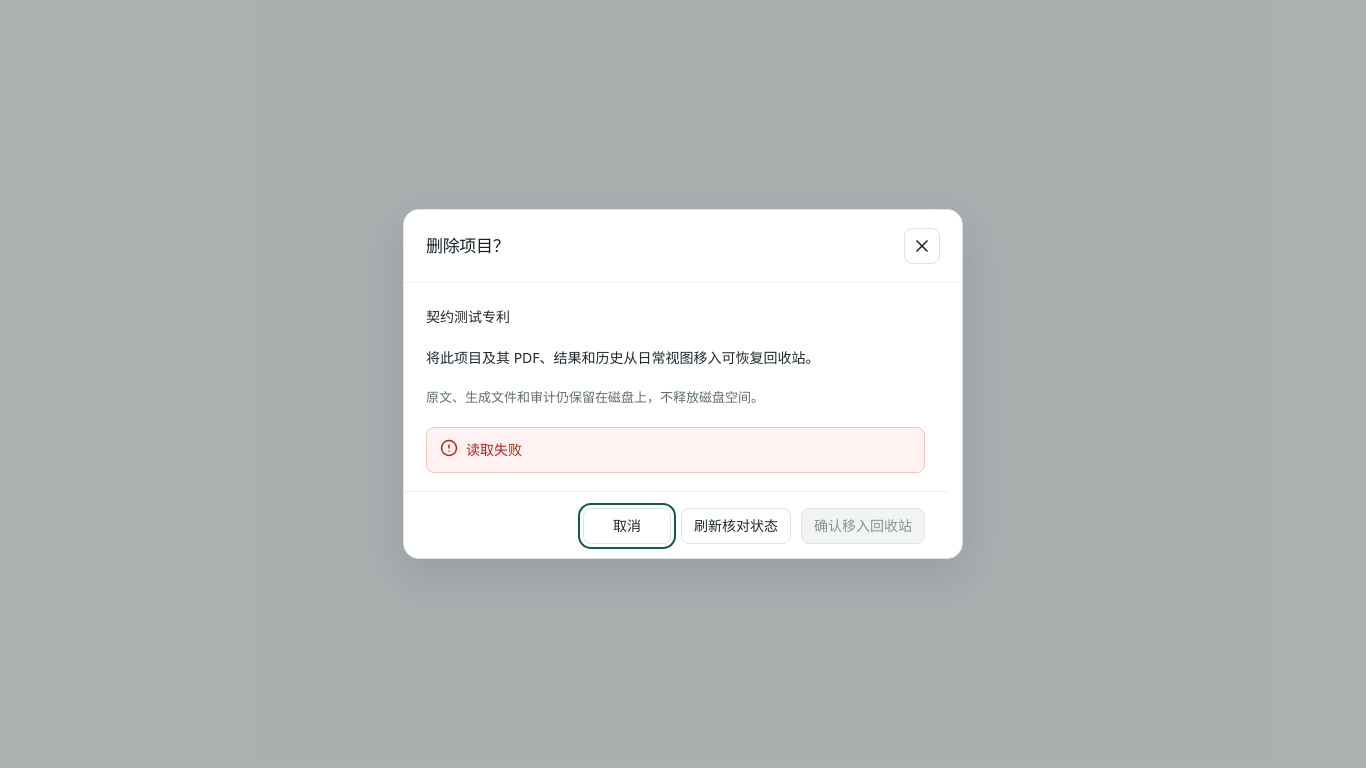
Test: explicit recoverable deletion and authoritative preview › surfaces read failure and permits only a read retry until preview succeeds
Expected: the message reads "读取失败", [466,440,522,459]
Expected: the button "确认移入回收站" is disabled, [801,508,925,544]
Click the button "刷新核对状态". click: (736, 526)
box: [681,508,791,544]
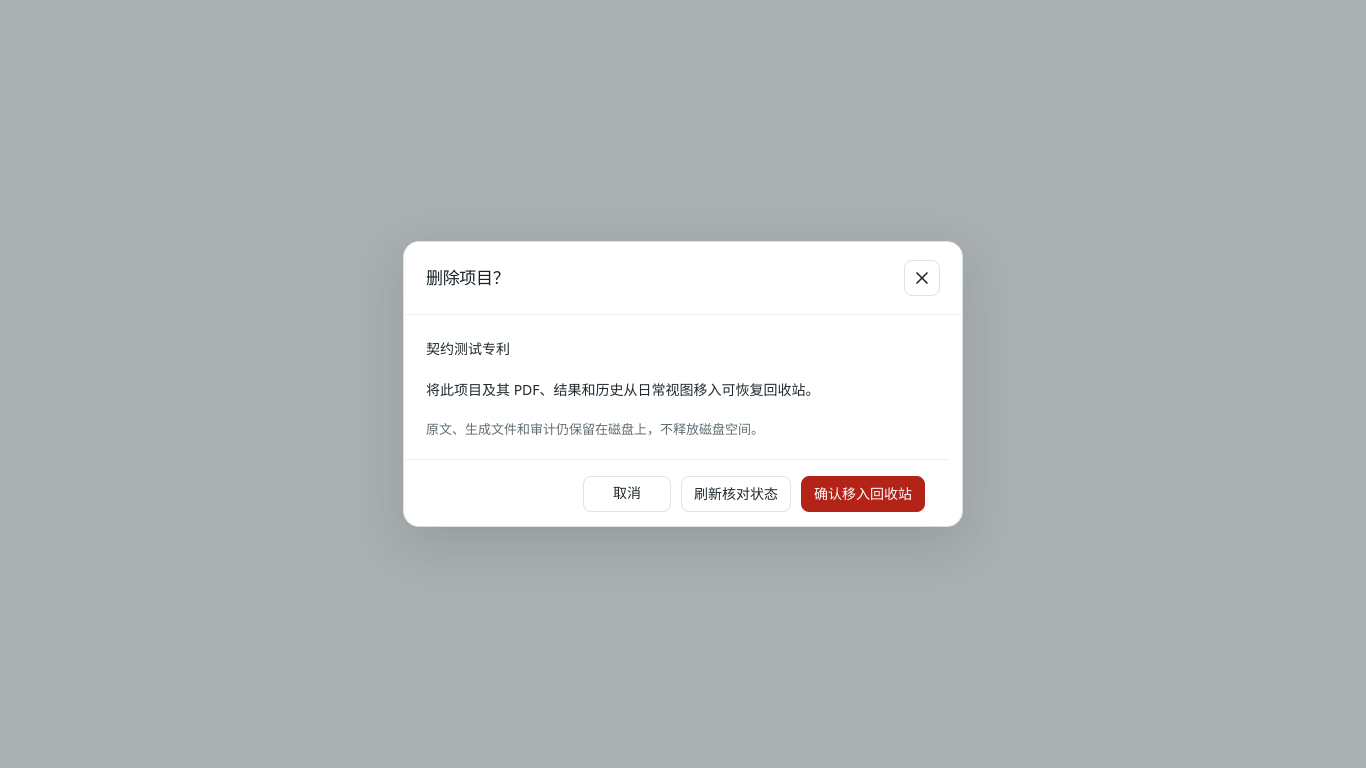
Expected: the button "确认移入回收站" is enabled, [801,476,925,512]
